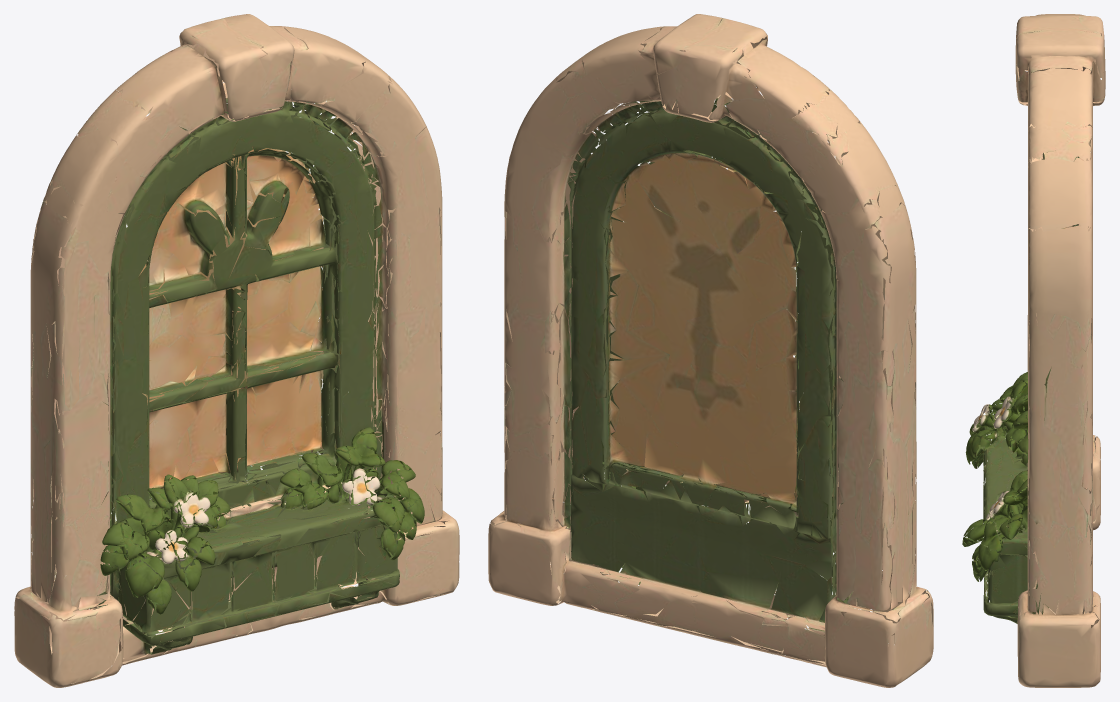
Rendered from cafe-window.glb.
3 views of the same model, side by side, from view 1: azimuth 30°, elevation 25°; view 2: azimuth 150°, elevation 25°; view 3: azimuth 270°, elevation 25° (orthographic). The views are drawn at different scales.
Size of the model in its own units: 1.37 by 1.9 by 0.4364.
Materials: 1 (1 with a texture image).
